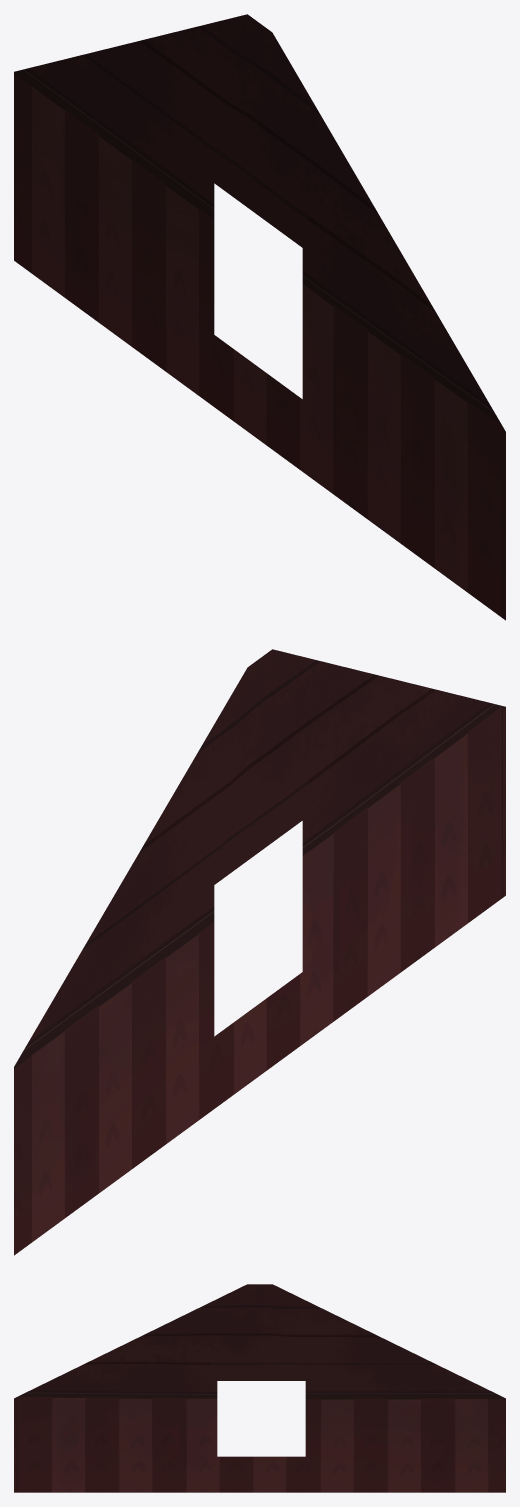
File: ParedePrincipal.fbx
The picture shows the model from 3 angles, top to bottom: view 1: azimuth 30°, elevation 25°; view 2: azimuth 150°, elevation 25°; view 3: azimuth 270°, elevation 25°; orthographic projection. The views are drawn at different scales.
Visible parts, largest first — view 1: ParedePrincipal; view 2: ParedePrincipal; view 3: ParedePrincipal.
Boxes of the visible parts, x1,y1,x2,y2 form: ParedePrincipal: [14, 14, 505, 620]; ParedePrincipal: [14, 649, 505, 1255]; ParedePrincipal: [14, 1284, 505, 1492].
Size of the model in its own units: 0 by 1593 by 745.
